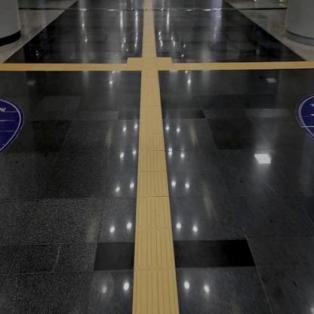Podoctatil: (132, 72, 176, 312), (116, 43, 182, 88), (174, 63, 313, 73), (0, 64, 126, 72), (141, 0, 158, 57)
